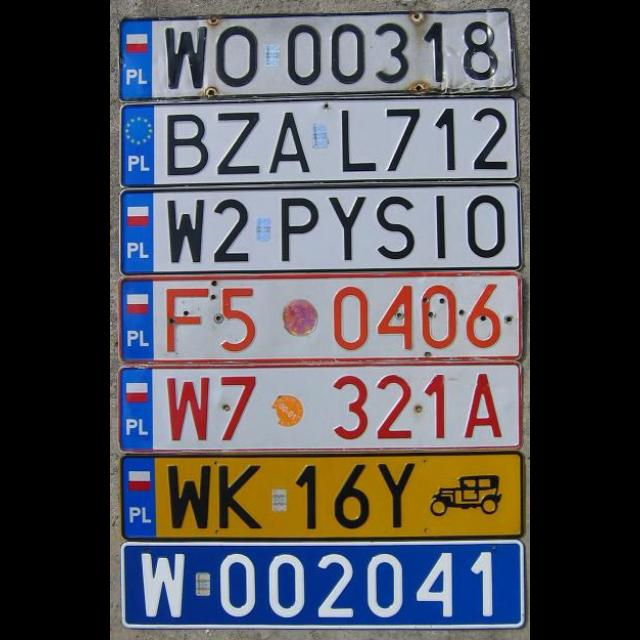pl_license_plate: (120, 101, 516, 181), (121, 187, 517, 267), (121, 275, 517, 355), (120, 367, 516, 447), (123, 456, 519, 536), (123, 542, 519, 622), (118, 12, 512, 92)
